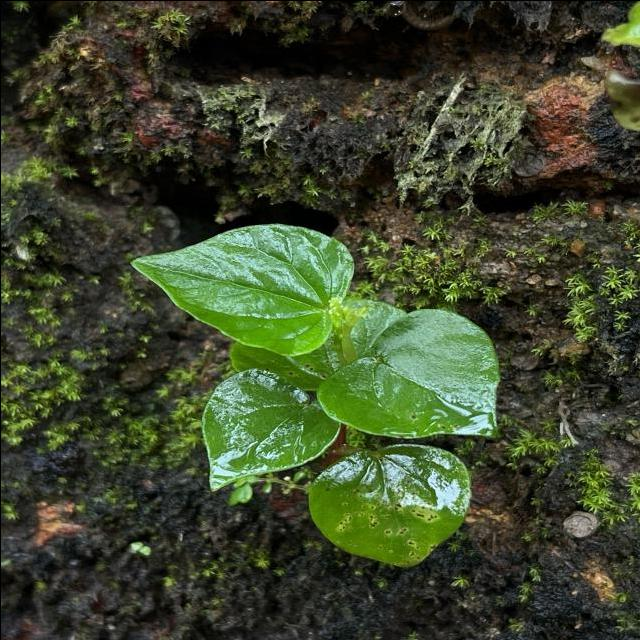Peperomia pellucida: (125, 218, 358, 360), (310, 302, 504, 454), (197, 360, 342, 500)
